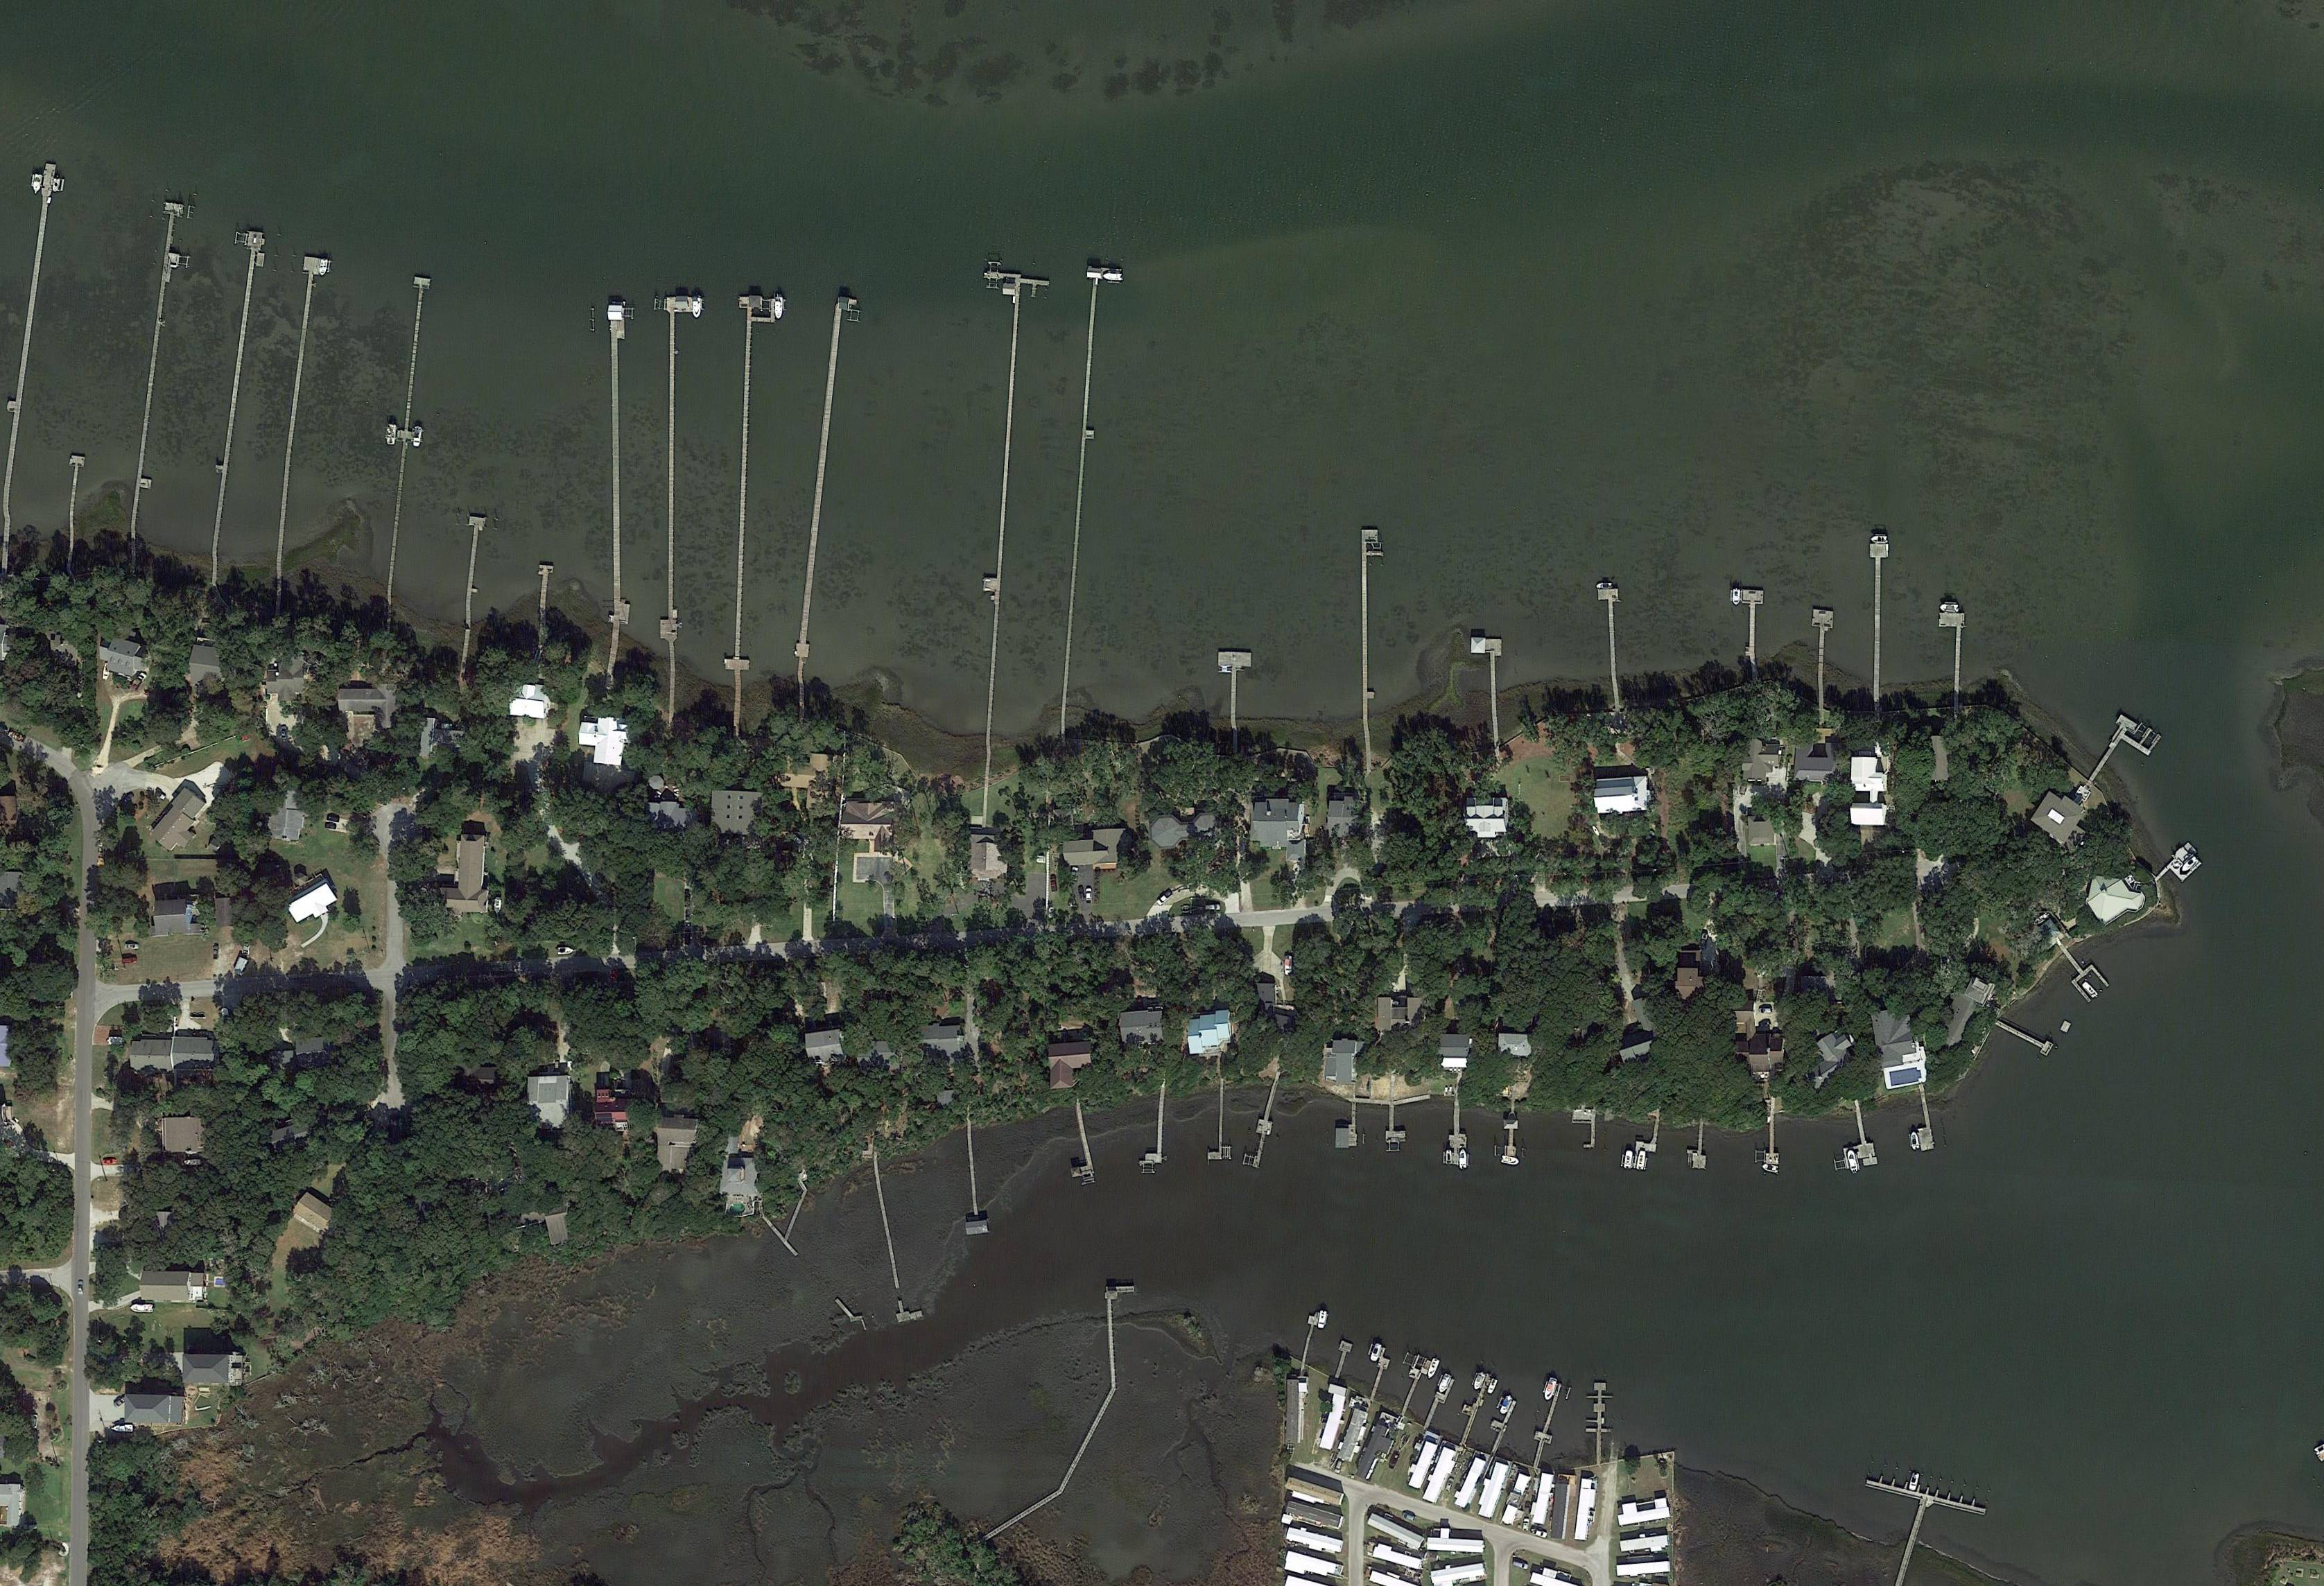harbor: (952, 270, 1051, 699), (1051, 267, 1123, 698), (793, 295, 858, 668), (122, 201, 189, 519), (722, 293, 777, 671), (205, 230, 268, 549), (0, 162, 58, 489), (268, 256, 325, 558), (381, 276, 433, 593), (666, 298, 694, 638), (871, 1166, 924, 1325), (609, 300, 634, 623), (2079, 712, 2162, 807), (1058, 1386, 1118, 1494), (1865, 1471, 1990, 1517), (1360, 528, 1385, 751), (982, 1487, 1061, 1544), (2052, 938, 2110, 1003), (1524, 1381, 1566, 1469), (1473, 636, 1506, 747), (1243, 1077, 1284, 1169), (1105, 1286, 1141, 1390), (1868, 542, 1890, 708), (1596, 588, 1625, 710), (959, 1129, 991, 1236), (2149, 841, 2206, 901), (1450, 1371, 1494, 1446), (1058, 1104, 1097, 1187), (1219, 652, 1252, 745), (459, 516, 486, 629), (1835, 1106, 1879, 1171), (1810, 608, 1837, 712), (1392, 1355, 1434, 1416), (1937, 611, 1966, 703), (1738, 588, 1766, 680), (1137, 1088, 1167, 1173), (1996, 1016, 2056, 1058), (1584, 1383, 1614, 1461), (1480, 1395, 1519, 1455), (1422, 1374, 1455, 1434), (1208, 1084, 1233, 1160), (1634, 1113, 1662, 1171), (1365, 1348, 1395, 1402), (533, 565, 555, 638), (1911, 1090, 1935, 1152), (1448, 1097, 1468, 1167), (1298, 1310, 1321, 1367), (1335, 1095, 1358, 1150), (1501, 1099, 1520, 1157), (1570, 1109, 1598, 1148), (1386, 1104, 1407, 1152), (1692, 1120, 1711, 1169), (1332, 1341, 1353, 1383), (1766, 1111, 1780, 1166)
